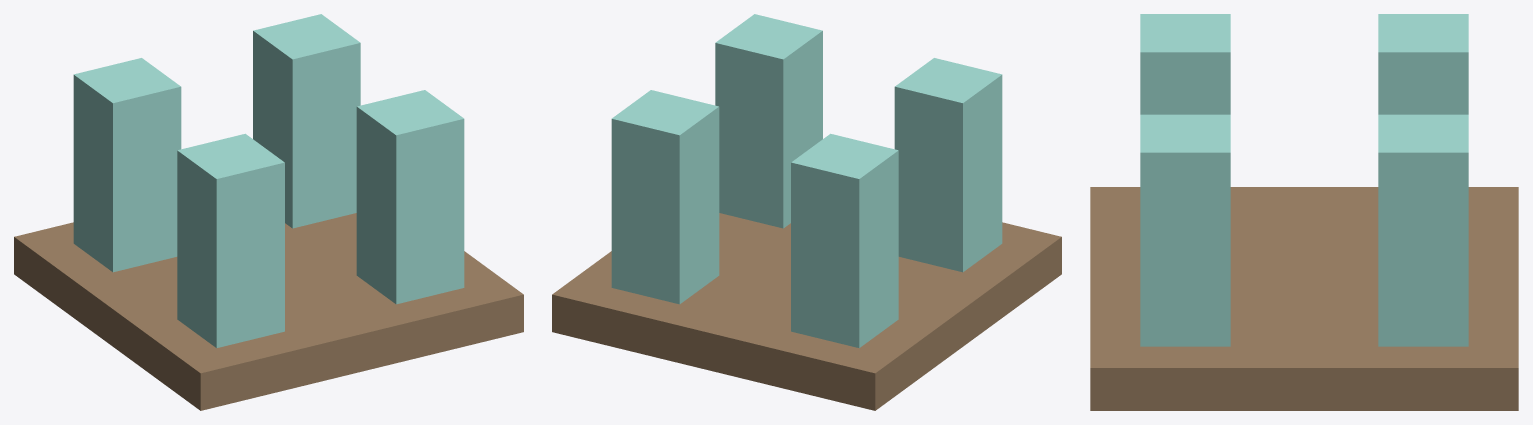
Rendered from Prop_DS_Crop_Clover_S3_V3.glb.
3 renders of one model, left to right at view 1: azimuth 30°, elevation 25°; view 2: azimuth 150°, elevation 25°; view 3: azimuth 270°, elevation 25°, orthographic. The views are drawn at different scales.
Parts seen in each view (by area): view 1: Cube, Cube.003, Cube.001, Cube.002, Cube.004; view 2: Cube, Cube.004, Cube.002, Cube.001, Cube.003; view 3: Cube, Cube.003, Cube.004, Cube.001, Cube.002.
Boxes of the visible parts, <box> form: Cube: <box>14,213,523,410</box>; Cube.003: <box>356,90,464,304</box>; Cube.001: <box>177,133,284,348</box>; Cube.002: <box>73,58,181,272</box>; Cube.004: <box>253,14,360,228</box>; Cube: <box>552,213,1061,410</box>; Cube.004: <box>611,90,719,304</box>; Cube.002: <box>791,133,898,348</box>; Cube.001: <box>894,58,1002,272</box>; Cube.003: <box>715,14,822,228</box>; Cube: <box>1090,187,1518,410</box>; Cube.003: <box>1140,114,1230,346</box>; Cube.004: <box>1378,114,1468,346</box>; Cube.001: <box>1140,14,1230,114</box>; Cube.002: <box>1378,14,1468,114</box>.
Bounding box in the file's own units: 0.9 × 0.55 × 0.9.
